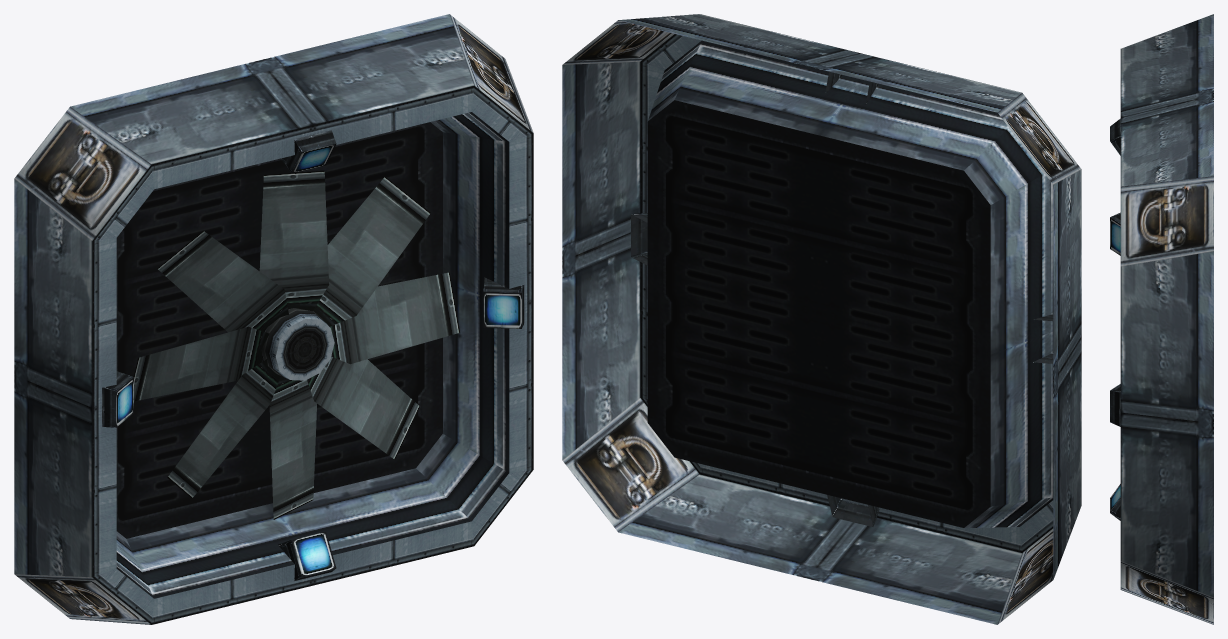
The model's file is Battery_wall_fan.FBX.
3 renders of one model, left to right at view 1: azimuth 30°, elevation 25°; view 2: azimuth 150°, elevation 25°; view 3: azimuth 270°, elevation 25°, orthographic. The views are drawn at different scales.
Parts seen in each view (by area): view 1: Battery_wall_fan_base, Battery_wall_fan_blade; view 2: Battery_wall_fan_base; view 3: Battery_wall_fan_base.
Boxes of the visible parts, x1,y1,x2,y2 form: Battery_wall_fan_base: (14,14,533,624); Battery_wall_fan_blade: (133,170,459,519); Battery_wall_fan_base: (562,14,1081,624); Battery_wall_fan_base: (1110,14,1213,624).
Size of the model in its own units: 282 by 281 by 59.
